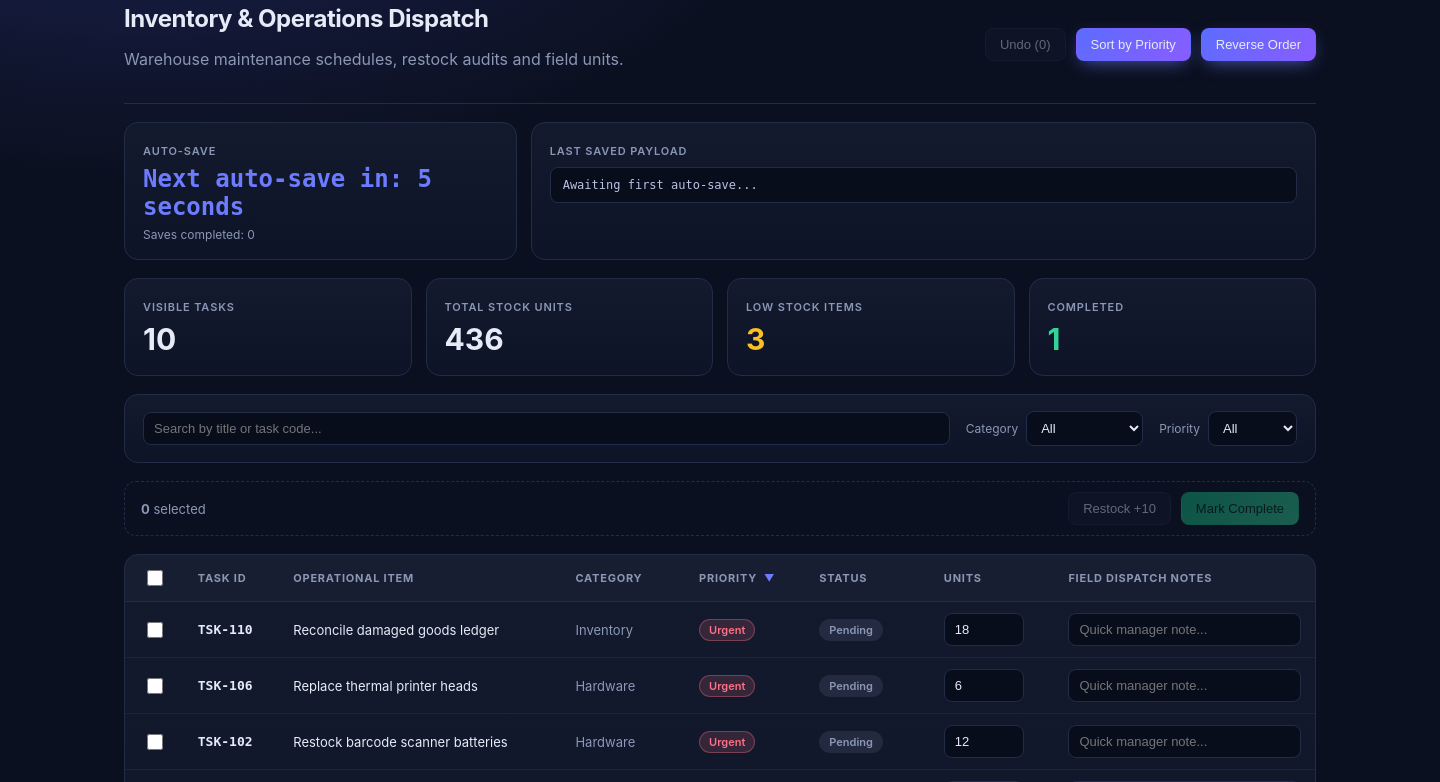
Scenario: Bulk Actions & Selection Fidelity › supports tri-state master checkbox and clear selection
This screenshot has width=1440, height=782.
Note: Click master checkbox: selects all visible (10)
Step 1. Click the checkbox named "Select all visible tasks" → (155, 578), box [147,570,163,586]
(page scrolled)
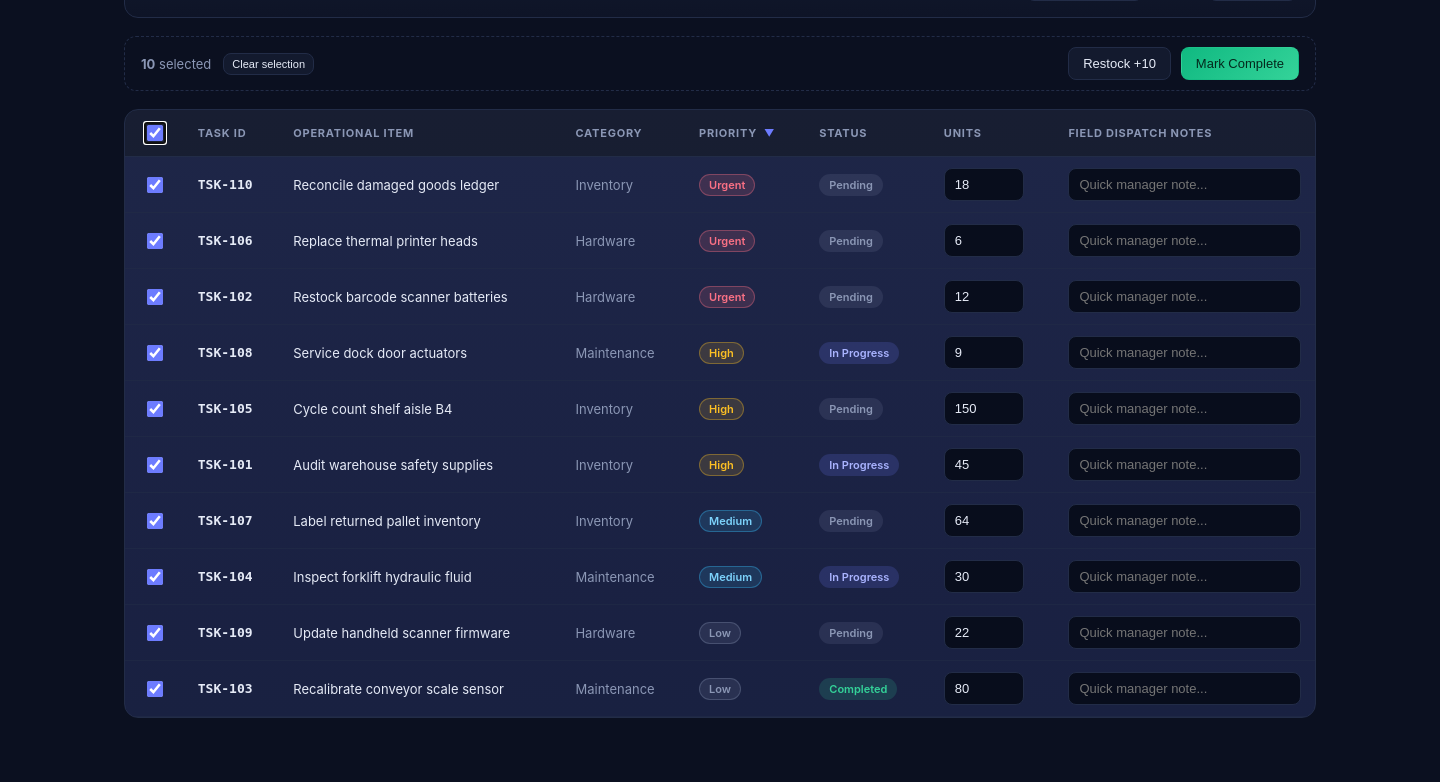
Check: the checkbox named "Select all visible tasks" is checked, box [147,125,163,141]
Check: the element with class "bulkbar" shows "10 selected", box [124,36,1316,91]
Note: Deselect one item: master checkbox becomes indeterminate
Step 2. Click the checkbox named "Select task TSK-101" → (155, 464), box [147,456,163,472]
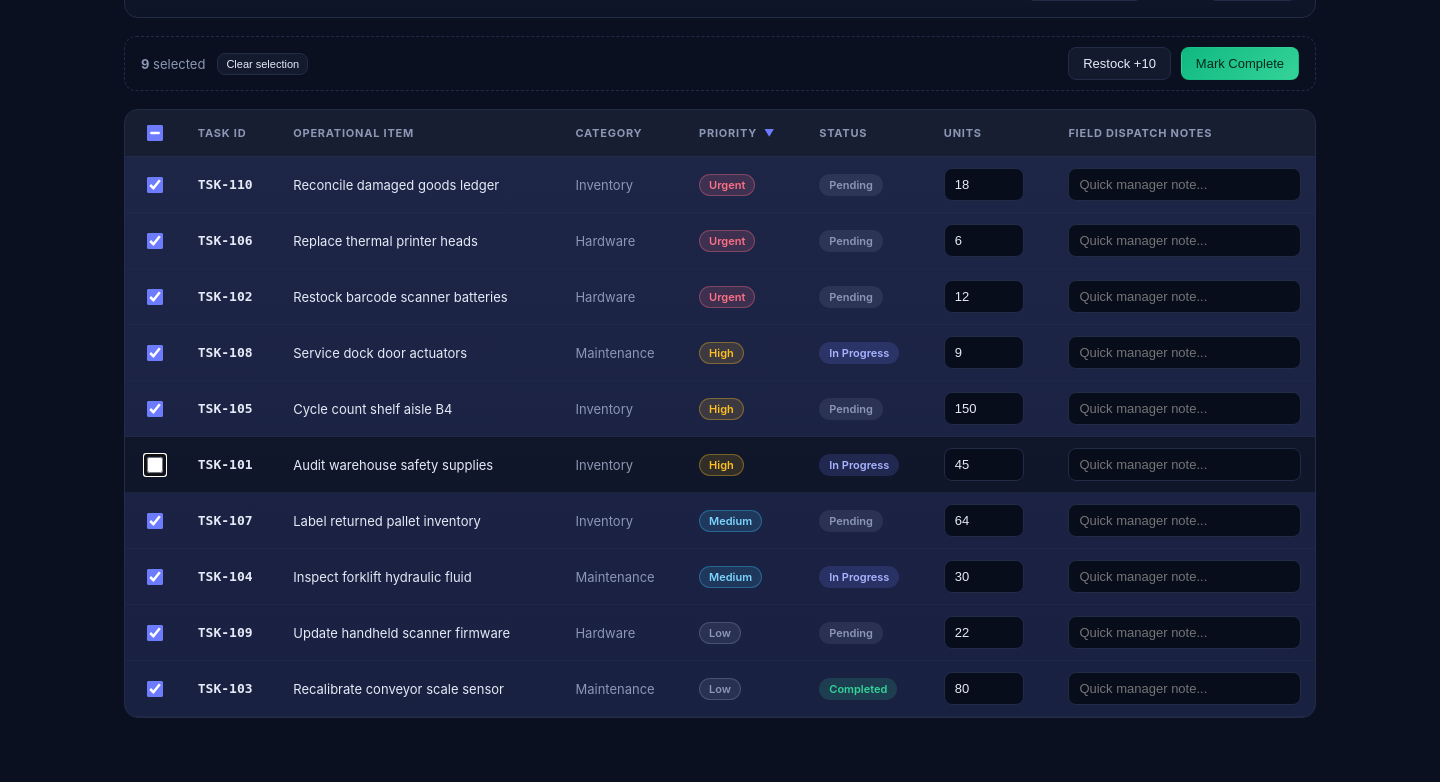
Check: the element with class "bulkbar" shows "9 selected", box [124,36,1316,91]
Note: Click "Clear selection"
Step 3. Click the button "Clear selection" → (263, 64), box [217,52,308,74]
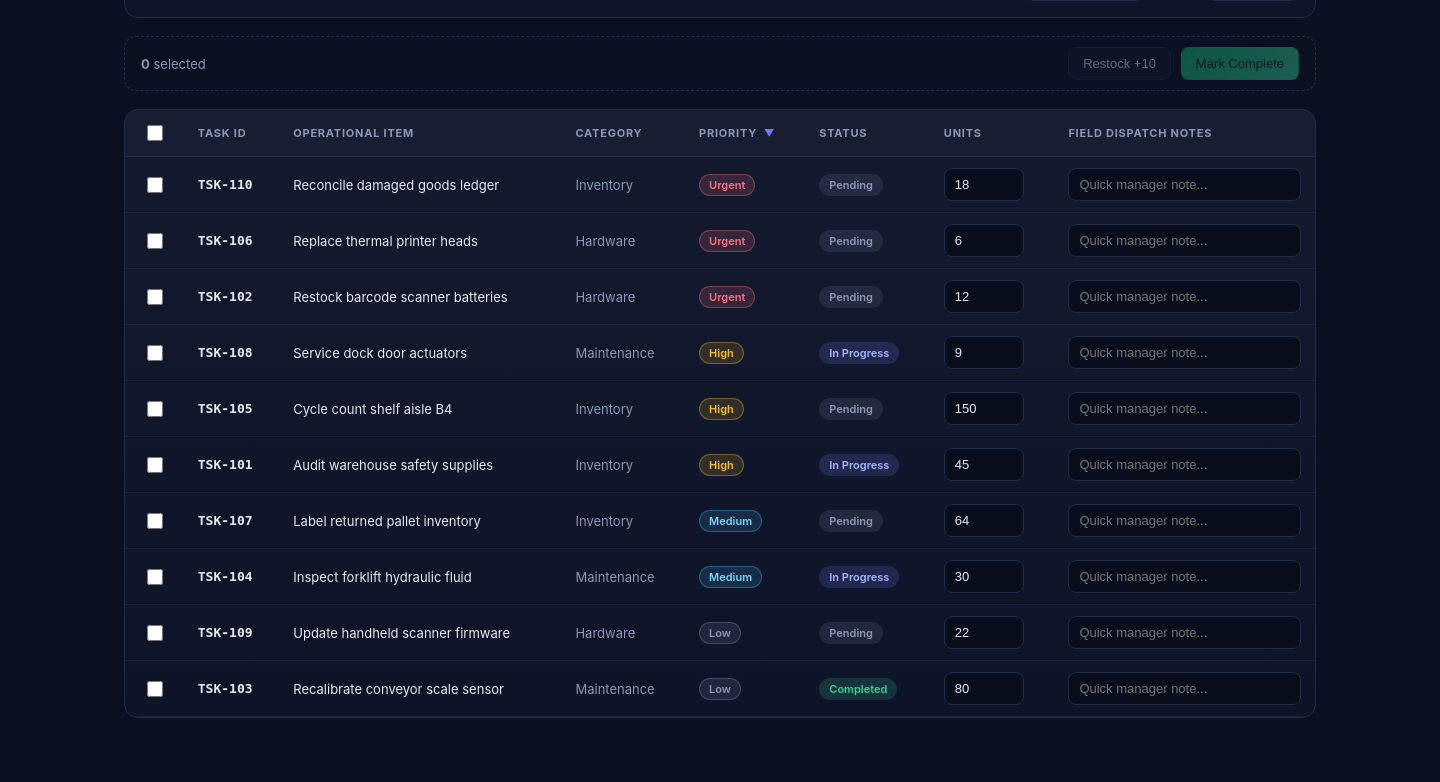
Check: the checkbox named "Select all visible tasks" is not checked, box [147,125,163,141]
Check: the element with class "bulkbar" shows "0 selected", box [124,36,1316,91]
